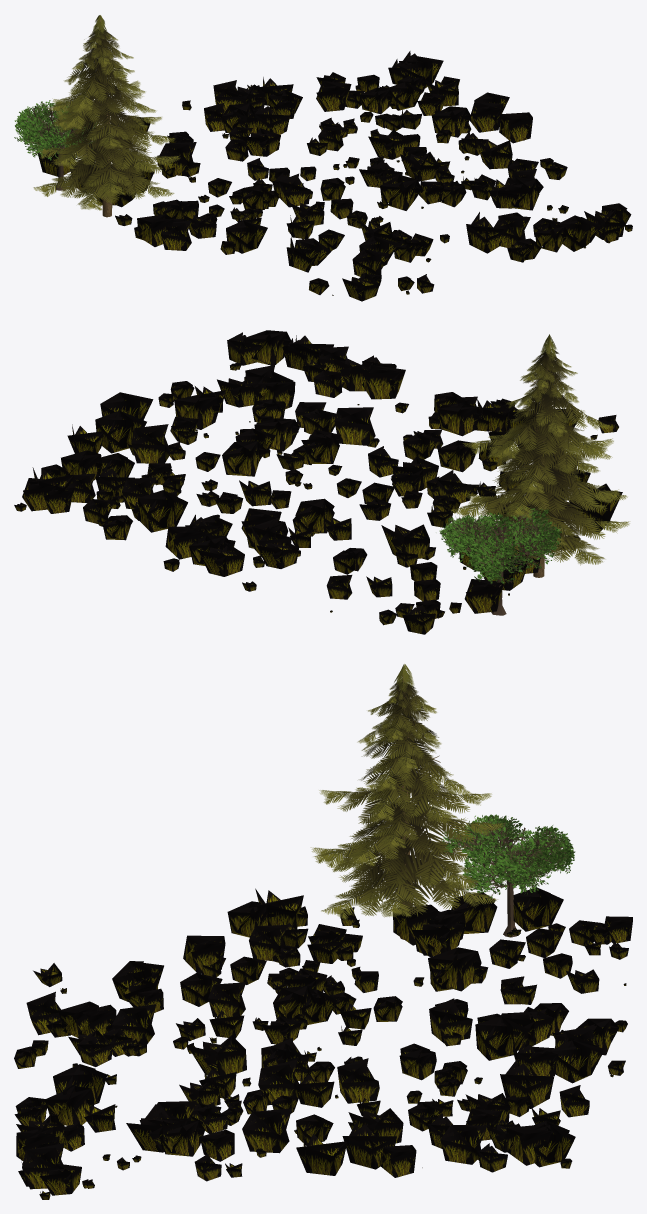
3 renders of one model, top to bottom at view 1: azimuth 30°, elevation 25°; view 2: azimuth 150°, elevation 25°; view 3: azimuth 270°, elevation 25°, orthographic. The views are drawn at different scales.
Parts seen in each view (by area): view 1: Low Poly Stylized 2D Grass.2084; view 2: Low Poly Stylized 2D Grass.2084; view 3: Low Poly Stylized 2D Grass.2084.
Part boxes in pixels (x1,y1,x2,y2): Low Poly Stylized 2D Grass.2084: (14, 15, 632, 301); Low Poly Stylized 2D Grass.2084: (14, 330, 629, 634); Low Poly Stylized 2D Grass.2084: (14, 664, 632, 1199).
Bounding box in the file's own units: 28.19 × 12.59 × 24.69.
5 materials, 4 textured.
